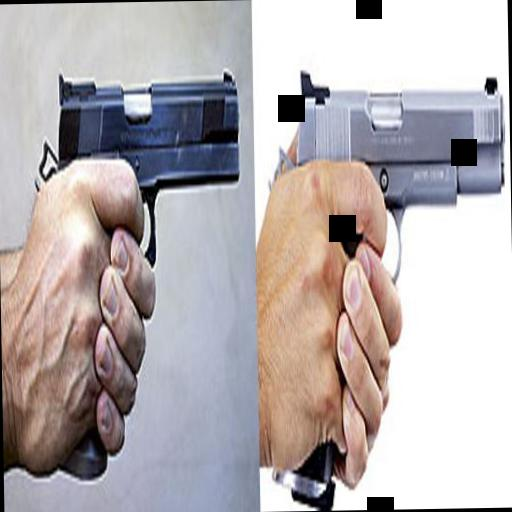Handgun: (261, 52, 510, 486), (34, 40, 243, 480)
